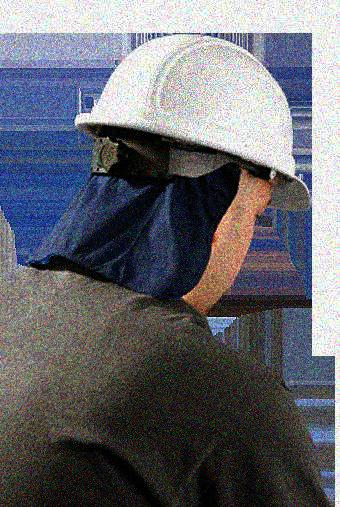helmet: (68, 34, 312, 307)
